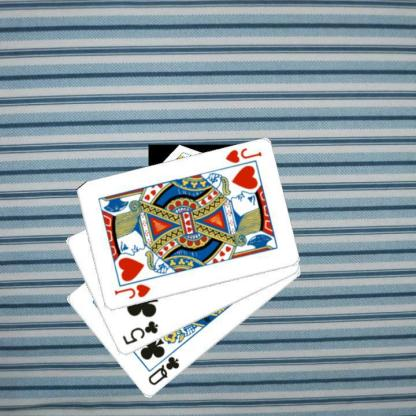5C: (119, 318, 160, 347)
JH: (222, 146, 263, 164), (112, 282, 152, 300)
QC: (145, 354, 181, 387)
